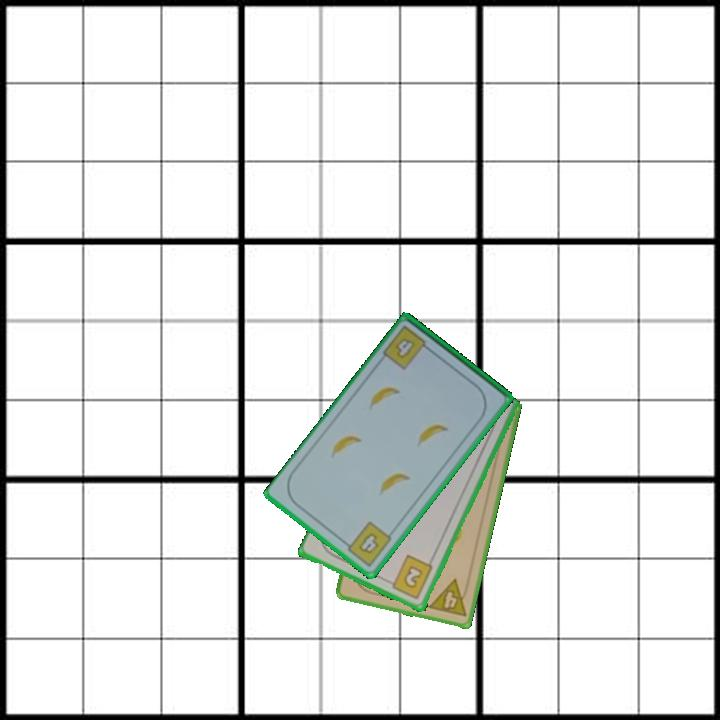2b: (383, 552, 436, 603)
4b: (340, 518, 395, 570), (380, 322, 435, 373)
4p: (425, 576, 472, 620)
